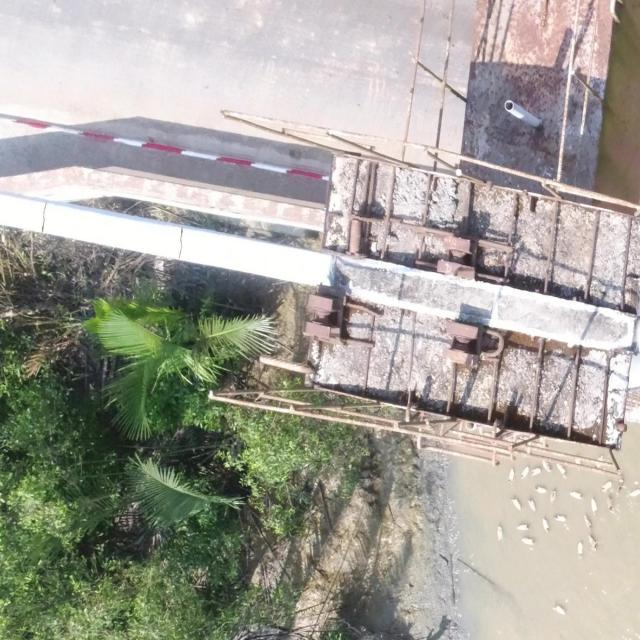crack: (177, 226, 184, 259), (42, 201, 48, 232)
